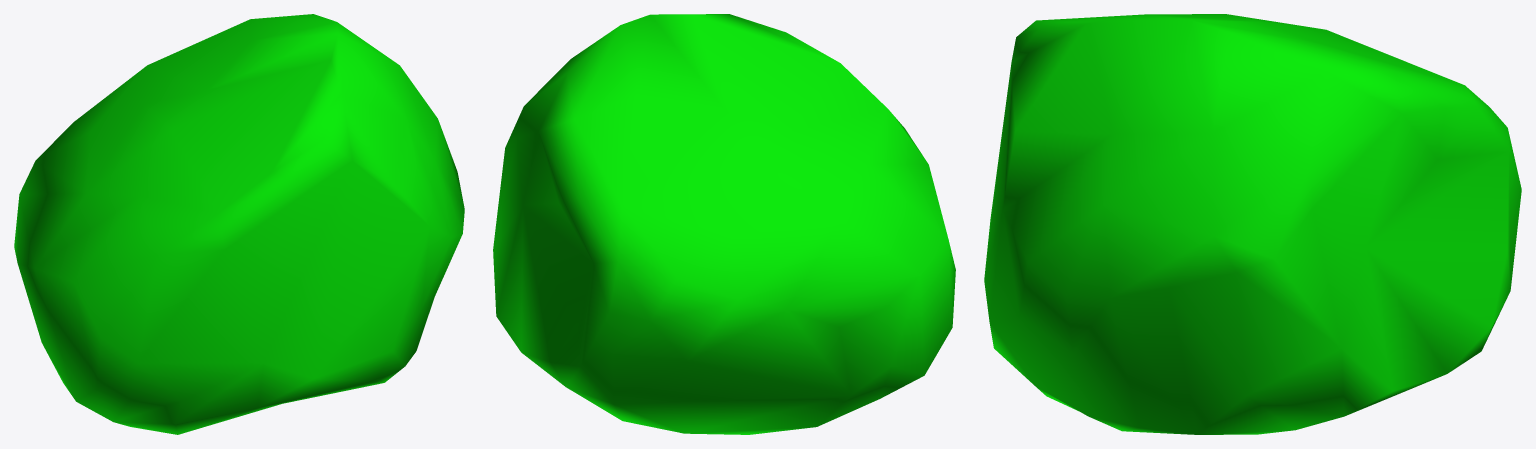
Rendered from Rock1_L.fbx.
3 views of the same model, side by side, from view 1: azimuth 30°, elevation 25°; view 2: azimuth 150°, elevation 25°; view 3: azimuth 270°, elevation 25° (orthographic). The views are drawn at different scales.
Parts seen in each view (by area): view 1: Rock1_TEST_L; view 2: Rock1_TEST_L; view 3: Rock1_TEST_L.
Boxes of the visible parts, x1=… form: Rock1_TEST_L: x1=14, y1=14, x2=464, y2=434; Rock1_TEST_L: x1=493, y1=14, x2=955, y2=434; Rock1_TEST_L: x1=984, y1=14, x2=1521, y2=434.
Bounding box in the file's own units: 3.64 × 2.91 × 3.35.
